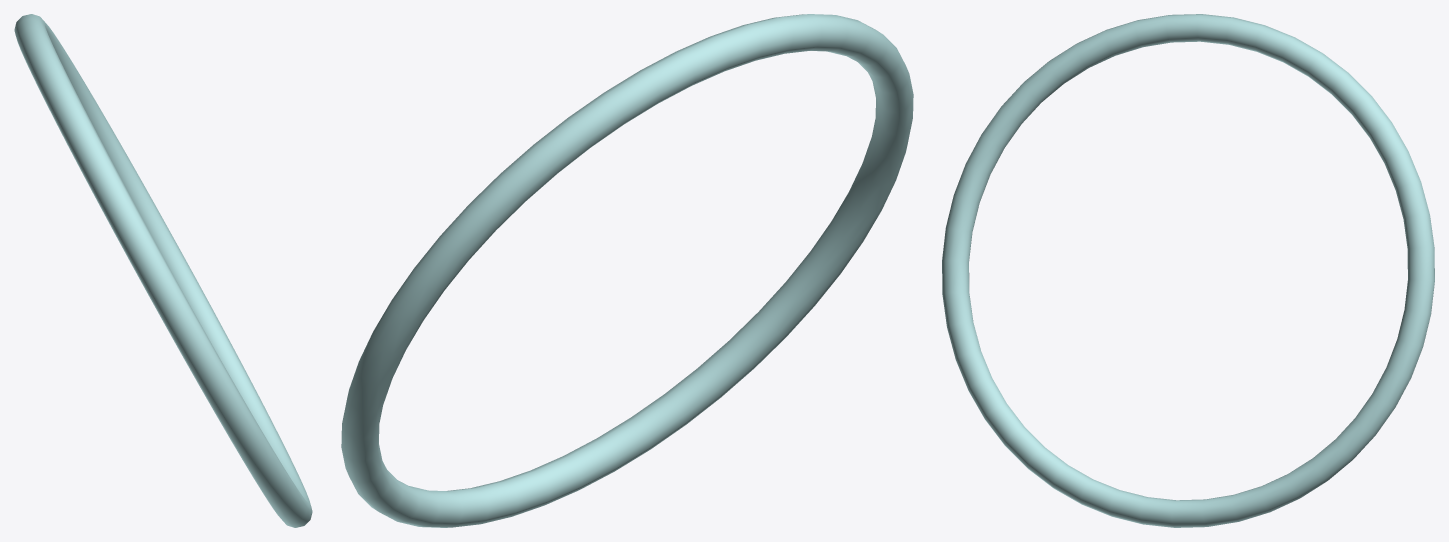
The model's file is sm_GoalOrb_3.fbx.
3 renders of one model, left to right at view 1: azimuth 30°, elevation 25°; view 2: azimuth 150°, elevation 25°; view 3: azimuth 270°, elevation 25°, orthographic. The views are drawn at different scales.
Parts seen in each view (by area): view 1: sm_GoalOrb.003; view 2: sm_GoalOrb.003; view 3: sm_GoalOrb.003.
Part boxes in pixels (x1,y1,x2,y2): sm_GoalOrb.003: (14, 14, 312, 527); sm_GoalOrb.003: (341, 14, 913, 527); sm_GoalOrb.003: (942, 14, 1434, 527).
Size of the model in its own units: 37.02 by 59.4 by 63.32.
